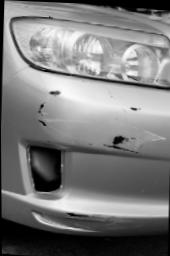Bumper: (7, 71, 170, 236)
